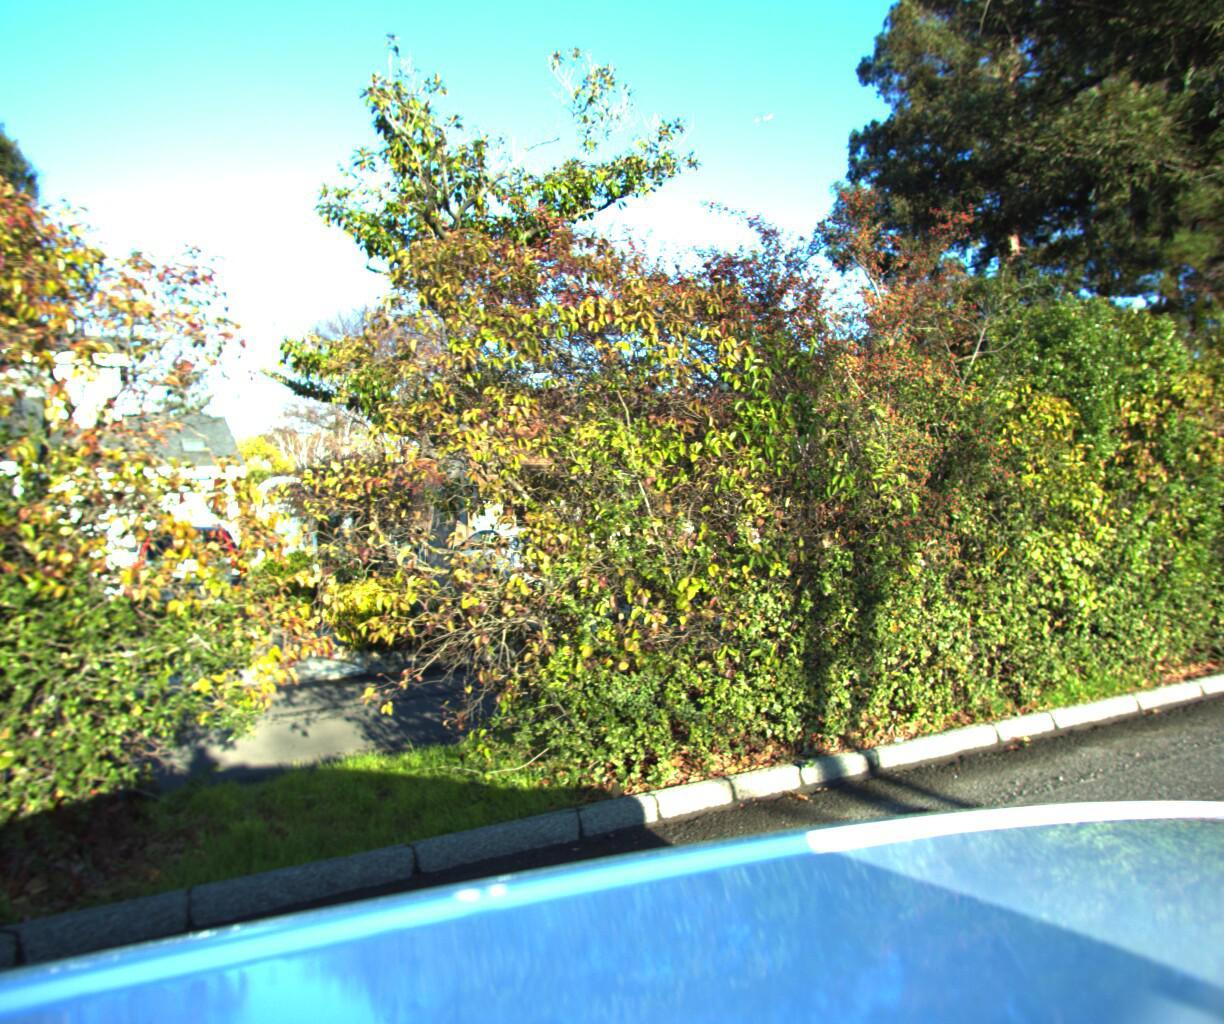car: (432, 525, 610, 644)
